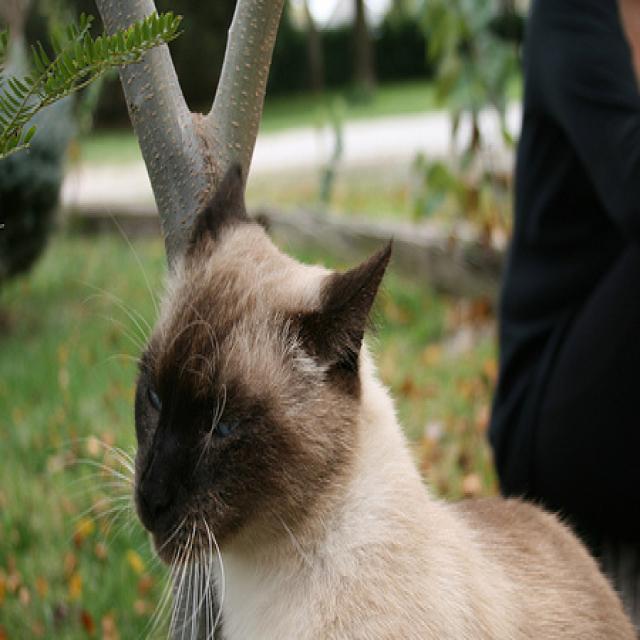Siamese: (126, 158, 640, 640)
